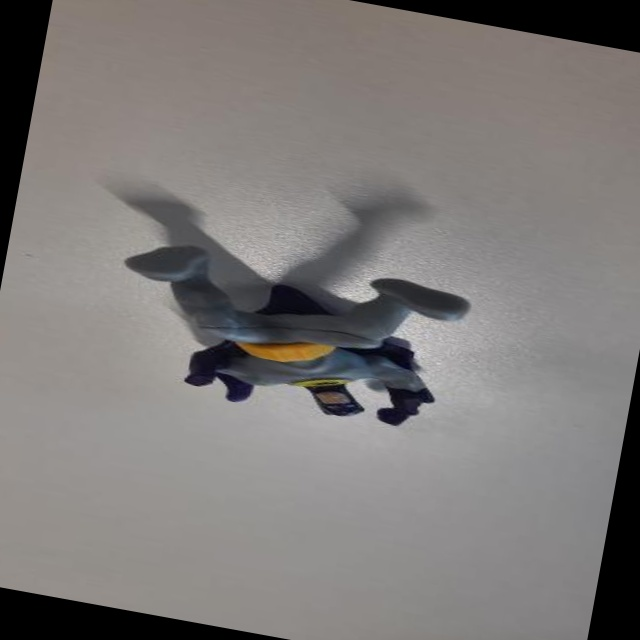Batman: (91, 220, 483, 455)
